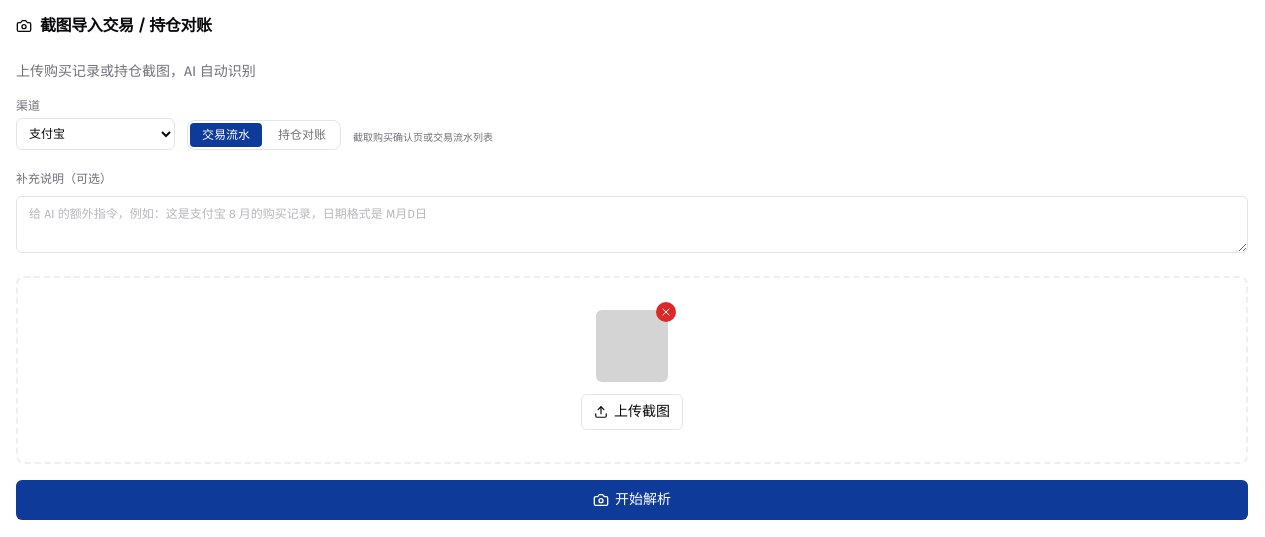
Test case: ScreenshotImportPanel 解析代际守卫 › 解析中途换图：旧图结果被丢弃，仅展示新图结果
Earlier steps of the test are not shown.
Click the button "开始解析" at (632, 500), box [16, 480, 1248, 520]
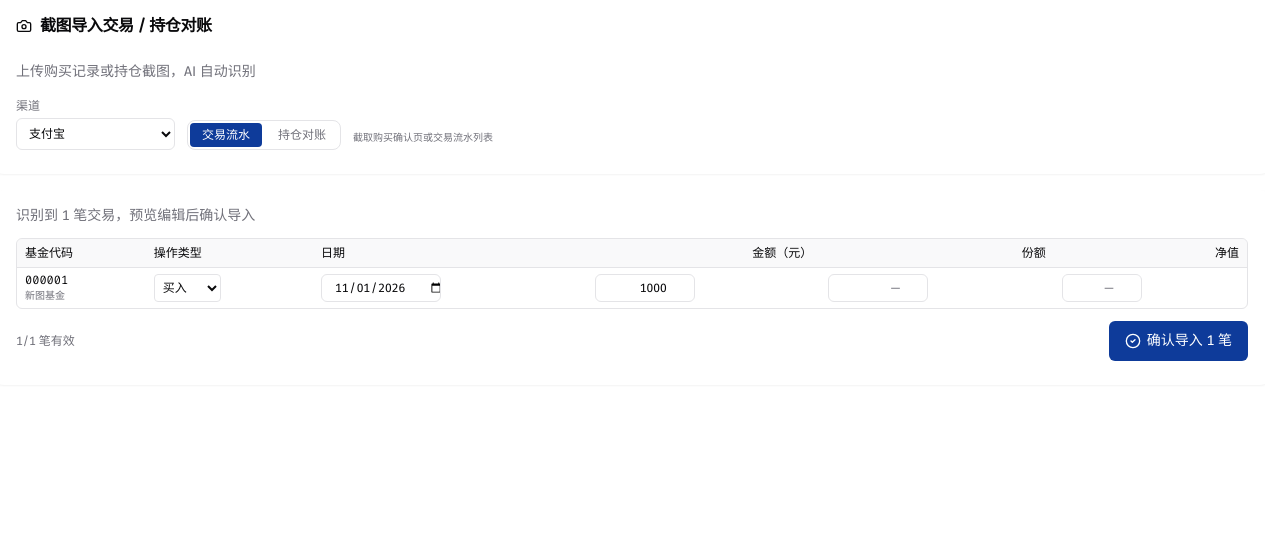
Check: the text "新图基金" is shown, box [25, 290, 65, 302]
